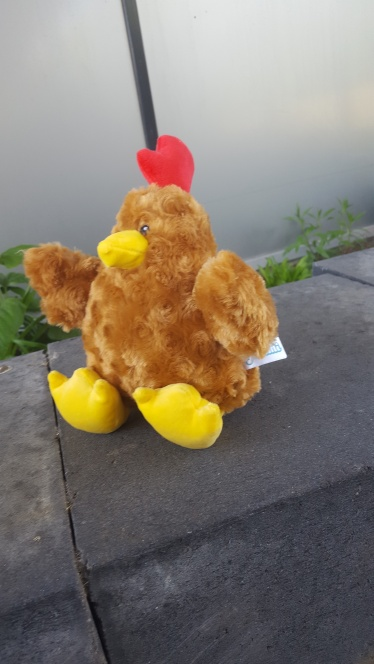chicken_front: (21, 133, 290, 453)
